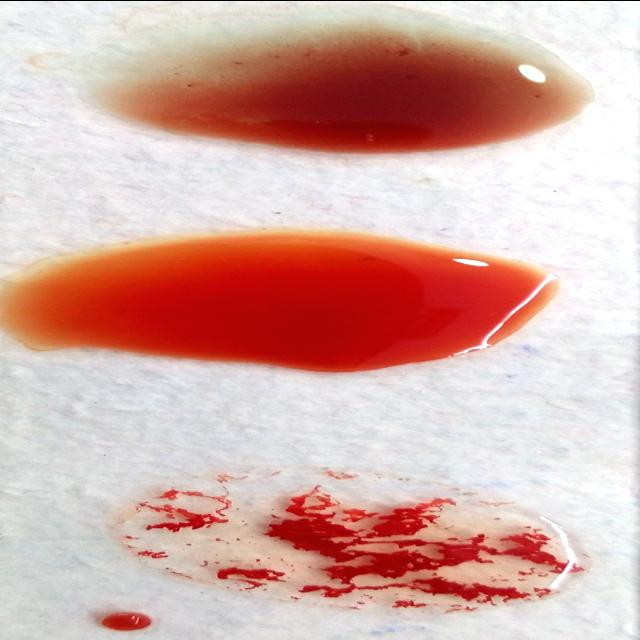D: (122, 468, 576, 606)
